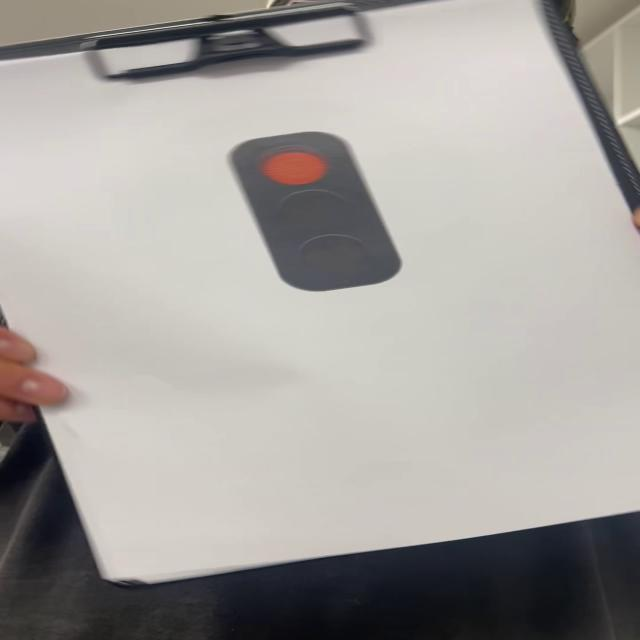red: (234, 132, 402, 294)
